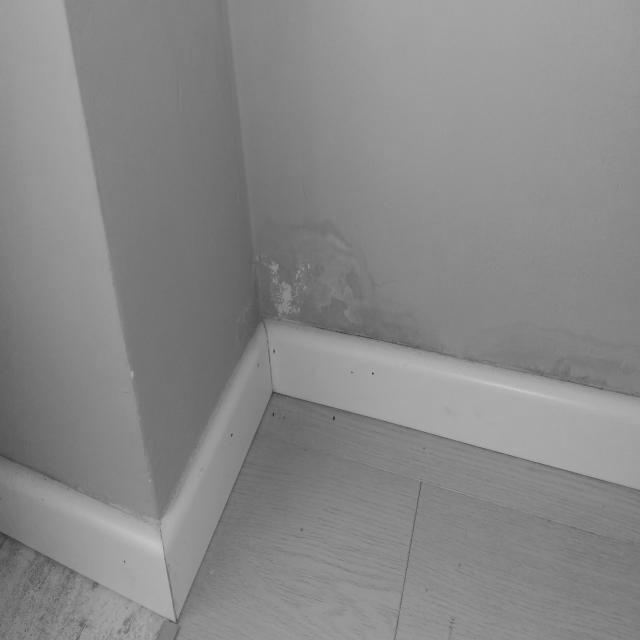stain marks: (255, 218, 460, 368), (469, 304, 640, 411)
